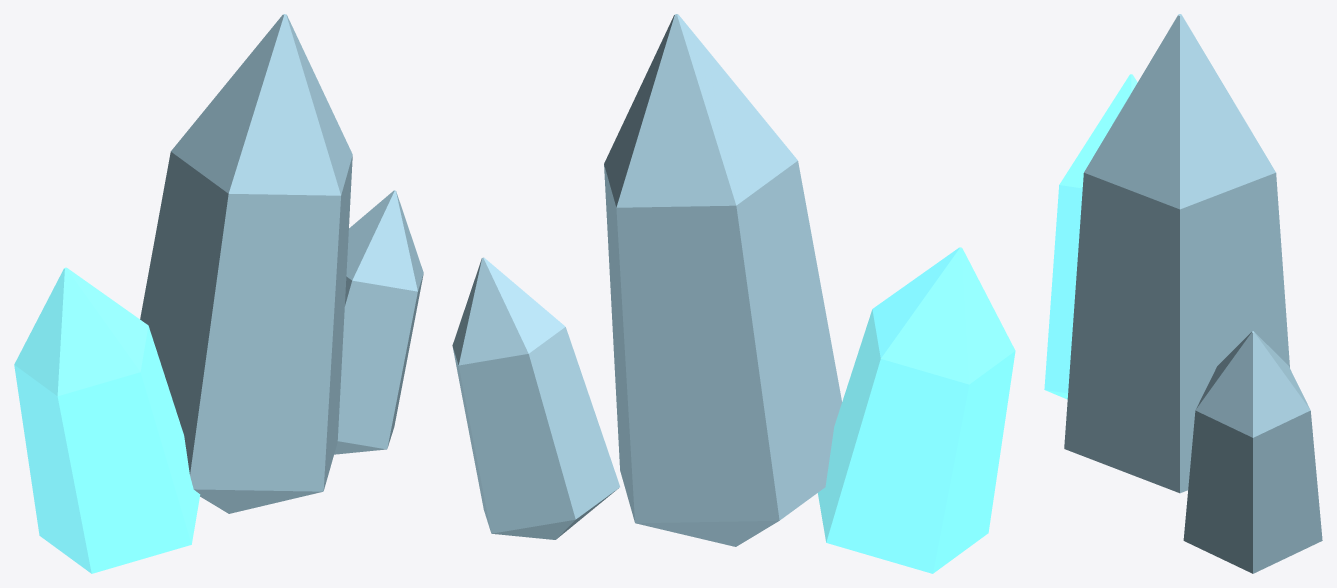
The model's file is cristales_hielo.glb.
The picture shows the model from 3 angles, left to right: view 1: azimuth 30°, elevation 25°; view 2: azimuth 150°, elevation 25°; view 3: azimuth 270°, elevation 25°; orthographic projection. The views are drawn at different scales.
Visible parts, largest first — view 1: CristalPrincipal, CristalLateral, CristalPequeno; view 2: CristalPrincipal, CristalLateral, CristalPequeno; view 3: CristalPrincipal, CristalPequeno, CristalLateral.
Part boxes in pixels (<box>): CristalPrincipal: <box>140,14,352,513</box>; CristalLateral: <box>14,267,200,573</box>; CristalPequeno: <box>334,190,423,454</box>; CristalPrincipal: <box>604,14,841,546</box>; CristalLateral: <box>818,247,1015,573</box>; CristalPequeno: <box>452,257,619,539</box>; CristalPrincipal: <box>1064,14,1289,493</box>; CristalPequeno: <box>1183,331,1322,573</box>; CristalLateral: <box>1044,74,1137,399</box>.
Size of the model in its own units: 0.8708 by 0.9038 by 0.4568.
